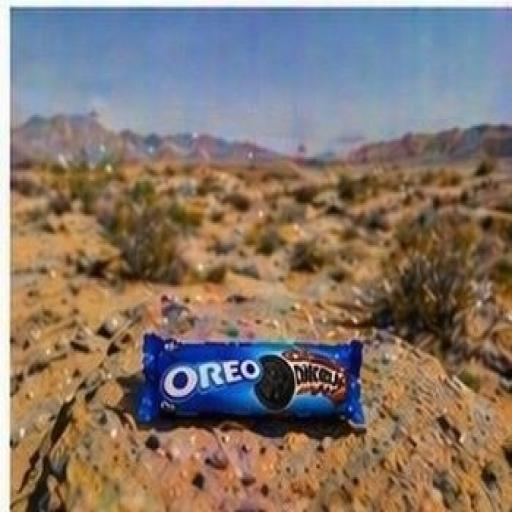oreo: (114, 293, 401, 466)
